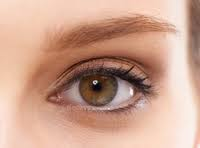pupil: (80, 73, 117, 106)
